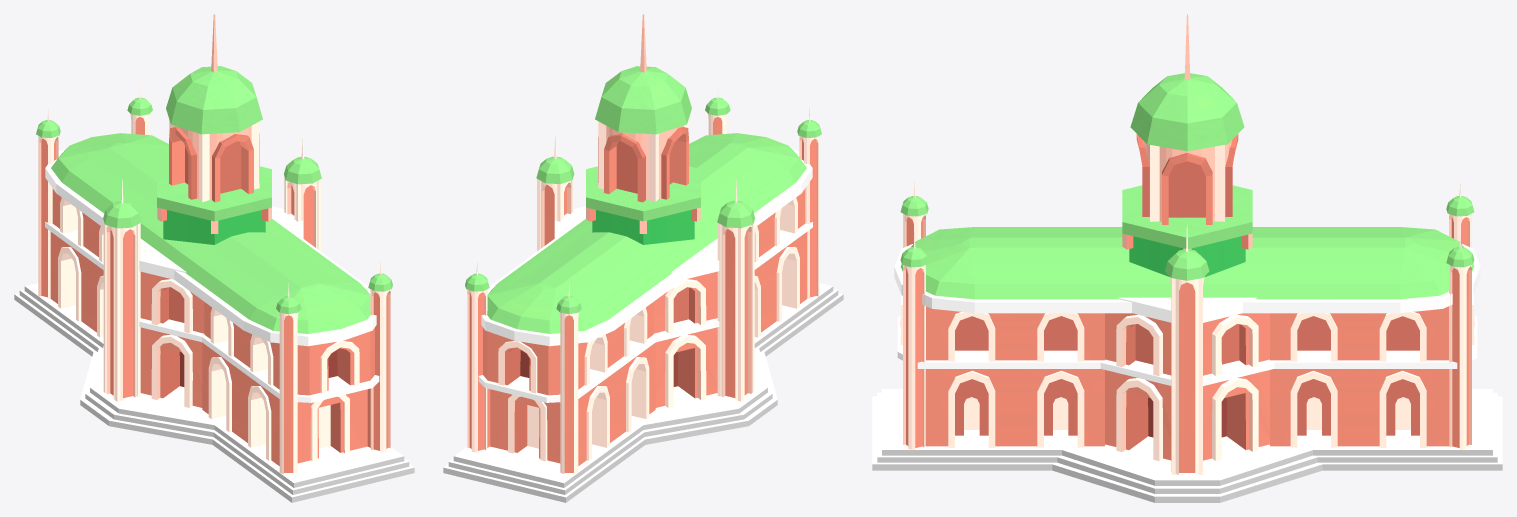
Rendered from temple.006.glb.
3 views of the same model, side by side, from view 1: azimuth 30°, elevation 25°; view 2: azimuth 150°, elevation 25°; view 3: azimuth 270°, elevation 25° (orthographic). The views are drawn at different scales.
Parts seen in each view (by area): view 1: temple.006(Clone); view 2: temple.006(Clone); view 3: temple.006(Clone).
Boxes of the visible parts, x1,y1,x2,y2 form: temple.006(Clone): (14, 14, 414, 502); temple.006(Clone): (443, 14, 843, 502); temple.006(Clone): (872, 14, 1502, 502).
Size of the model in its own units: 13.71 by 20.32 by 27.49.
Materials: 1 (1 with a texture image).
